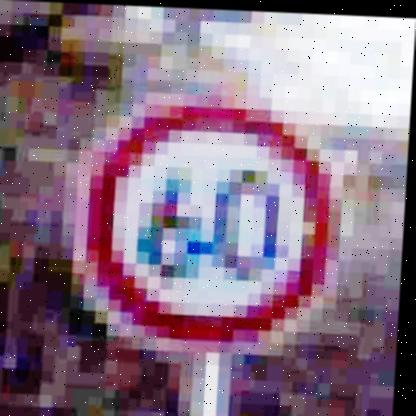Speed Limit -60-: (67, 90, 359, 356)
